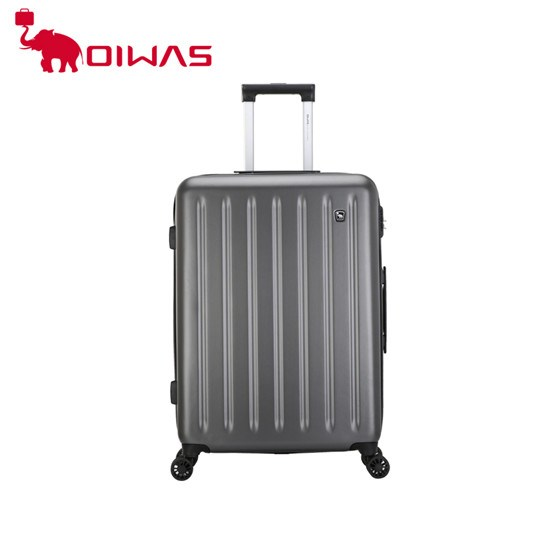luggage: (168, 82, 391, 481)
